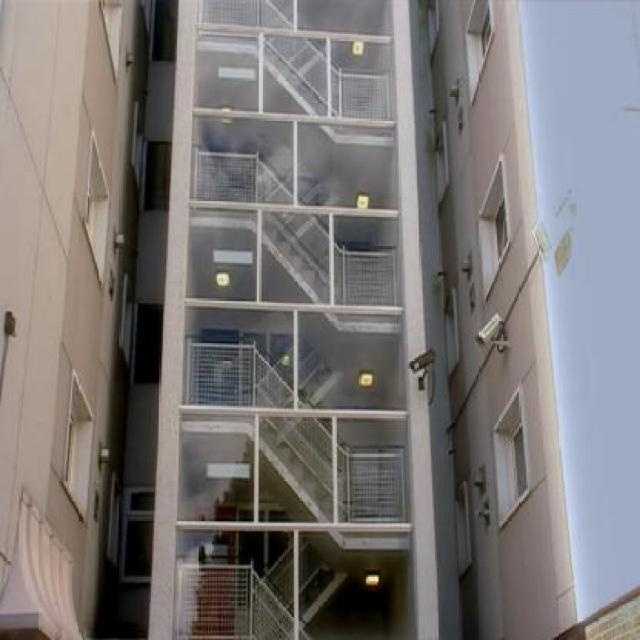stair: (209, 338, 403, 551)
